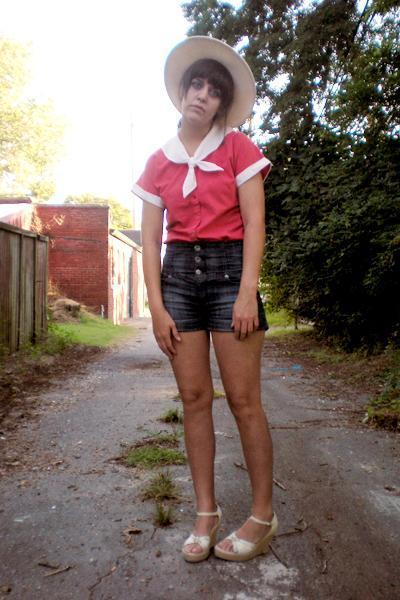hat: (164, 27, 263, 140)
shirt: (139, 134, 266, 240)
shoe: (182, 530, 251, 555)
shorts: (160, 237, 268, 344)
